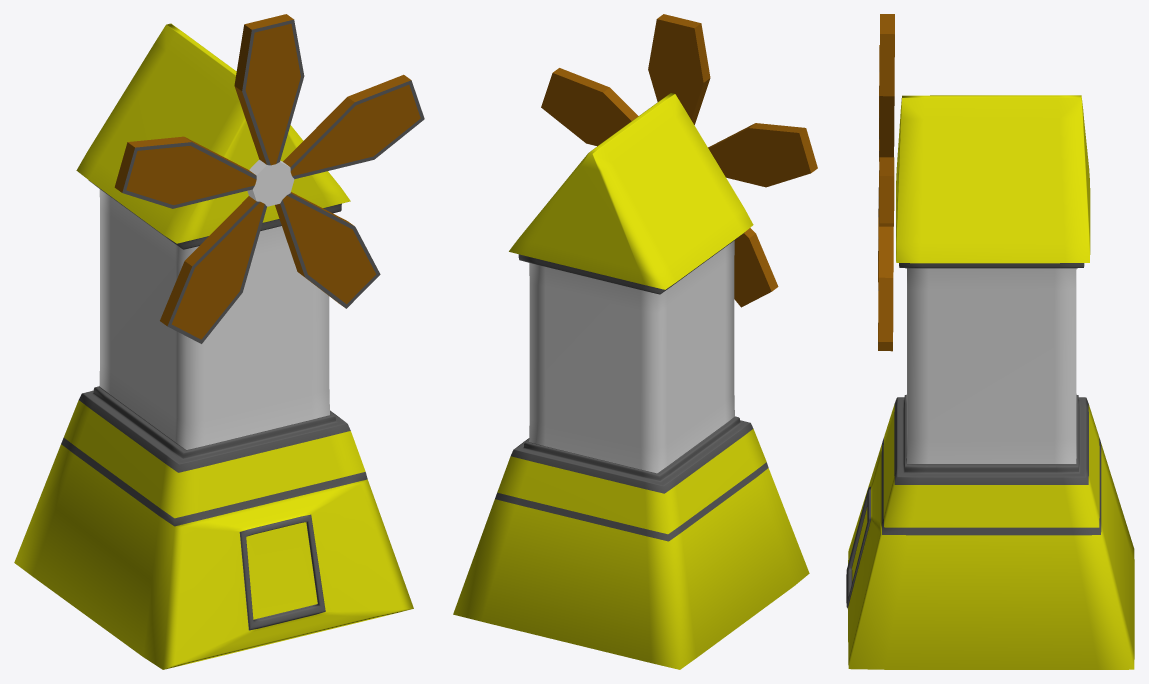
File: Windmill.fbx
3 renders of one model, left to right at view 1: azimuth 30°, elevation 25°; view 2: azimuth 150°, elevation 25°; view 3: azimuth 270°, elevation 25°, orthographic. The views are drawn at different scales.
Parts seen in each view (by area): view 1: WINDMILL, FAN; view 2: WINDMILL, FAN; view 3: WINDMILL, FAN.
Boxes of the visible parts, bbox=[...] form: WINDMILL: bbox=[14, 23, 413, 669]; FAN: bbox=[114, 14, 424, 343]; WINDMILL: bbox=[453, 93, 809, 669]; FAN: bbox=[541, 14, 817, 307]; WINDMILL: bbox=[846, 95, 1134, 669]; FAN: bbox=[878, 14, 894, 351].
Bounding box in the file's own units: 571 × 1087 × 484.
